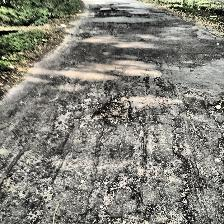pothole: (90, 92, 134, 128), (206, 100, 224, 114)
